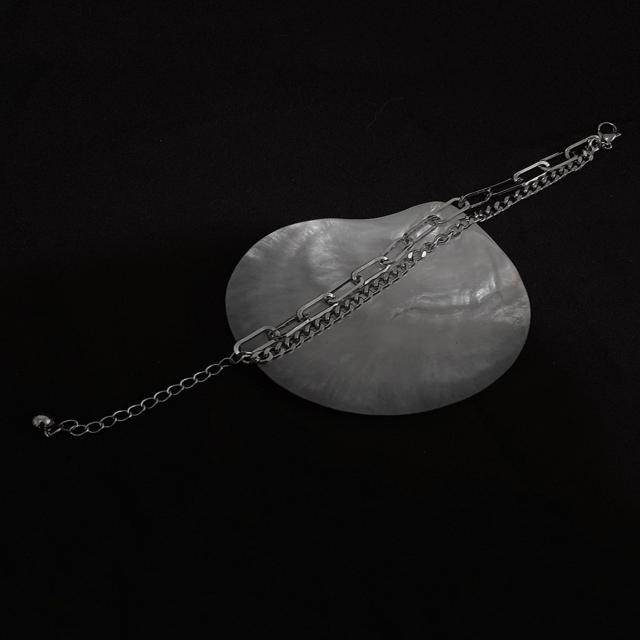bracelet: (14, 43, 640, 536)
